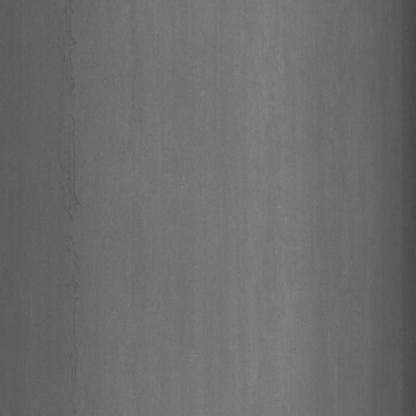silk_spot: (49, 33, 87, 363)
